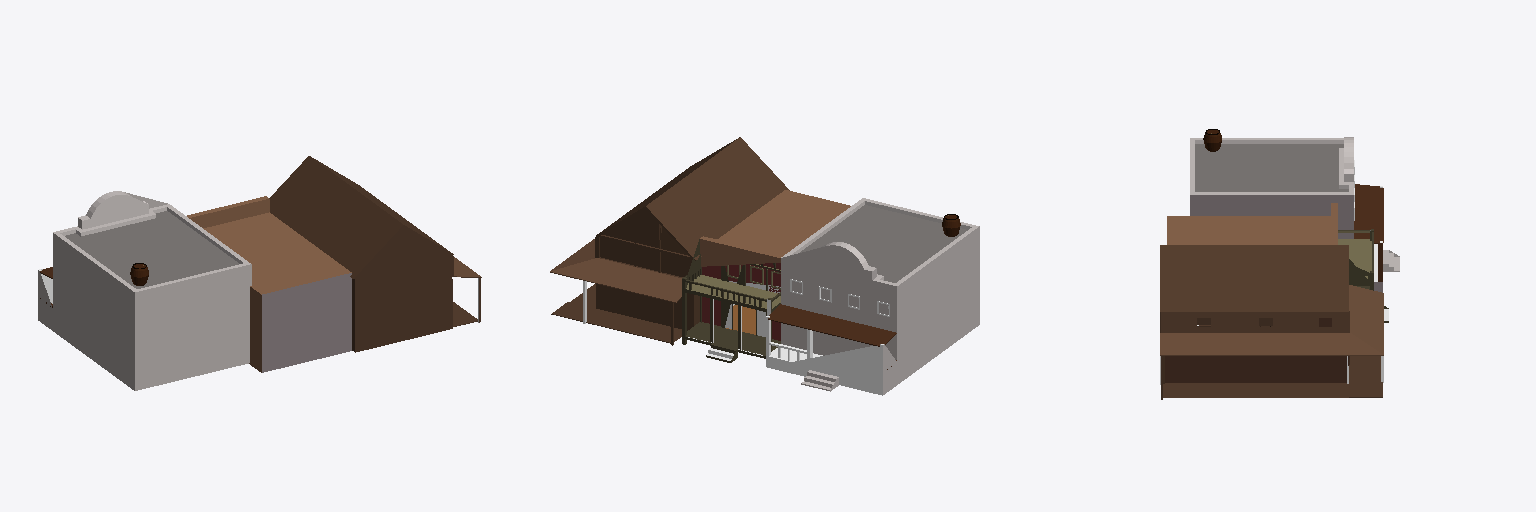
File: buildings_3.obj
The picture shows the model from 3 angles: view 1: azimuth 30°, elevation 25°; view 2: azimuth 150°, elevation 25°; view 3: azimuth 270°, elevation 25°; orthographic projection.
Visible parts, largest first — view 1: Mesh8 Model; view 2: Mesh8 Model; view 3: Mesh8 Model.
Boxes of the visible parts, x1,y1,x2,y2 form: Mesh8 Model: [38, 156, 481, 390]; Mesh8 Model: [550, 137, 979, 395]; Mesh8 Model: [1160, 129, 1399, 399].
Size of the model in its own units: 786 by 287 by 492.